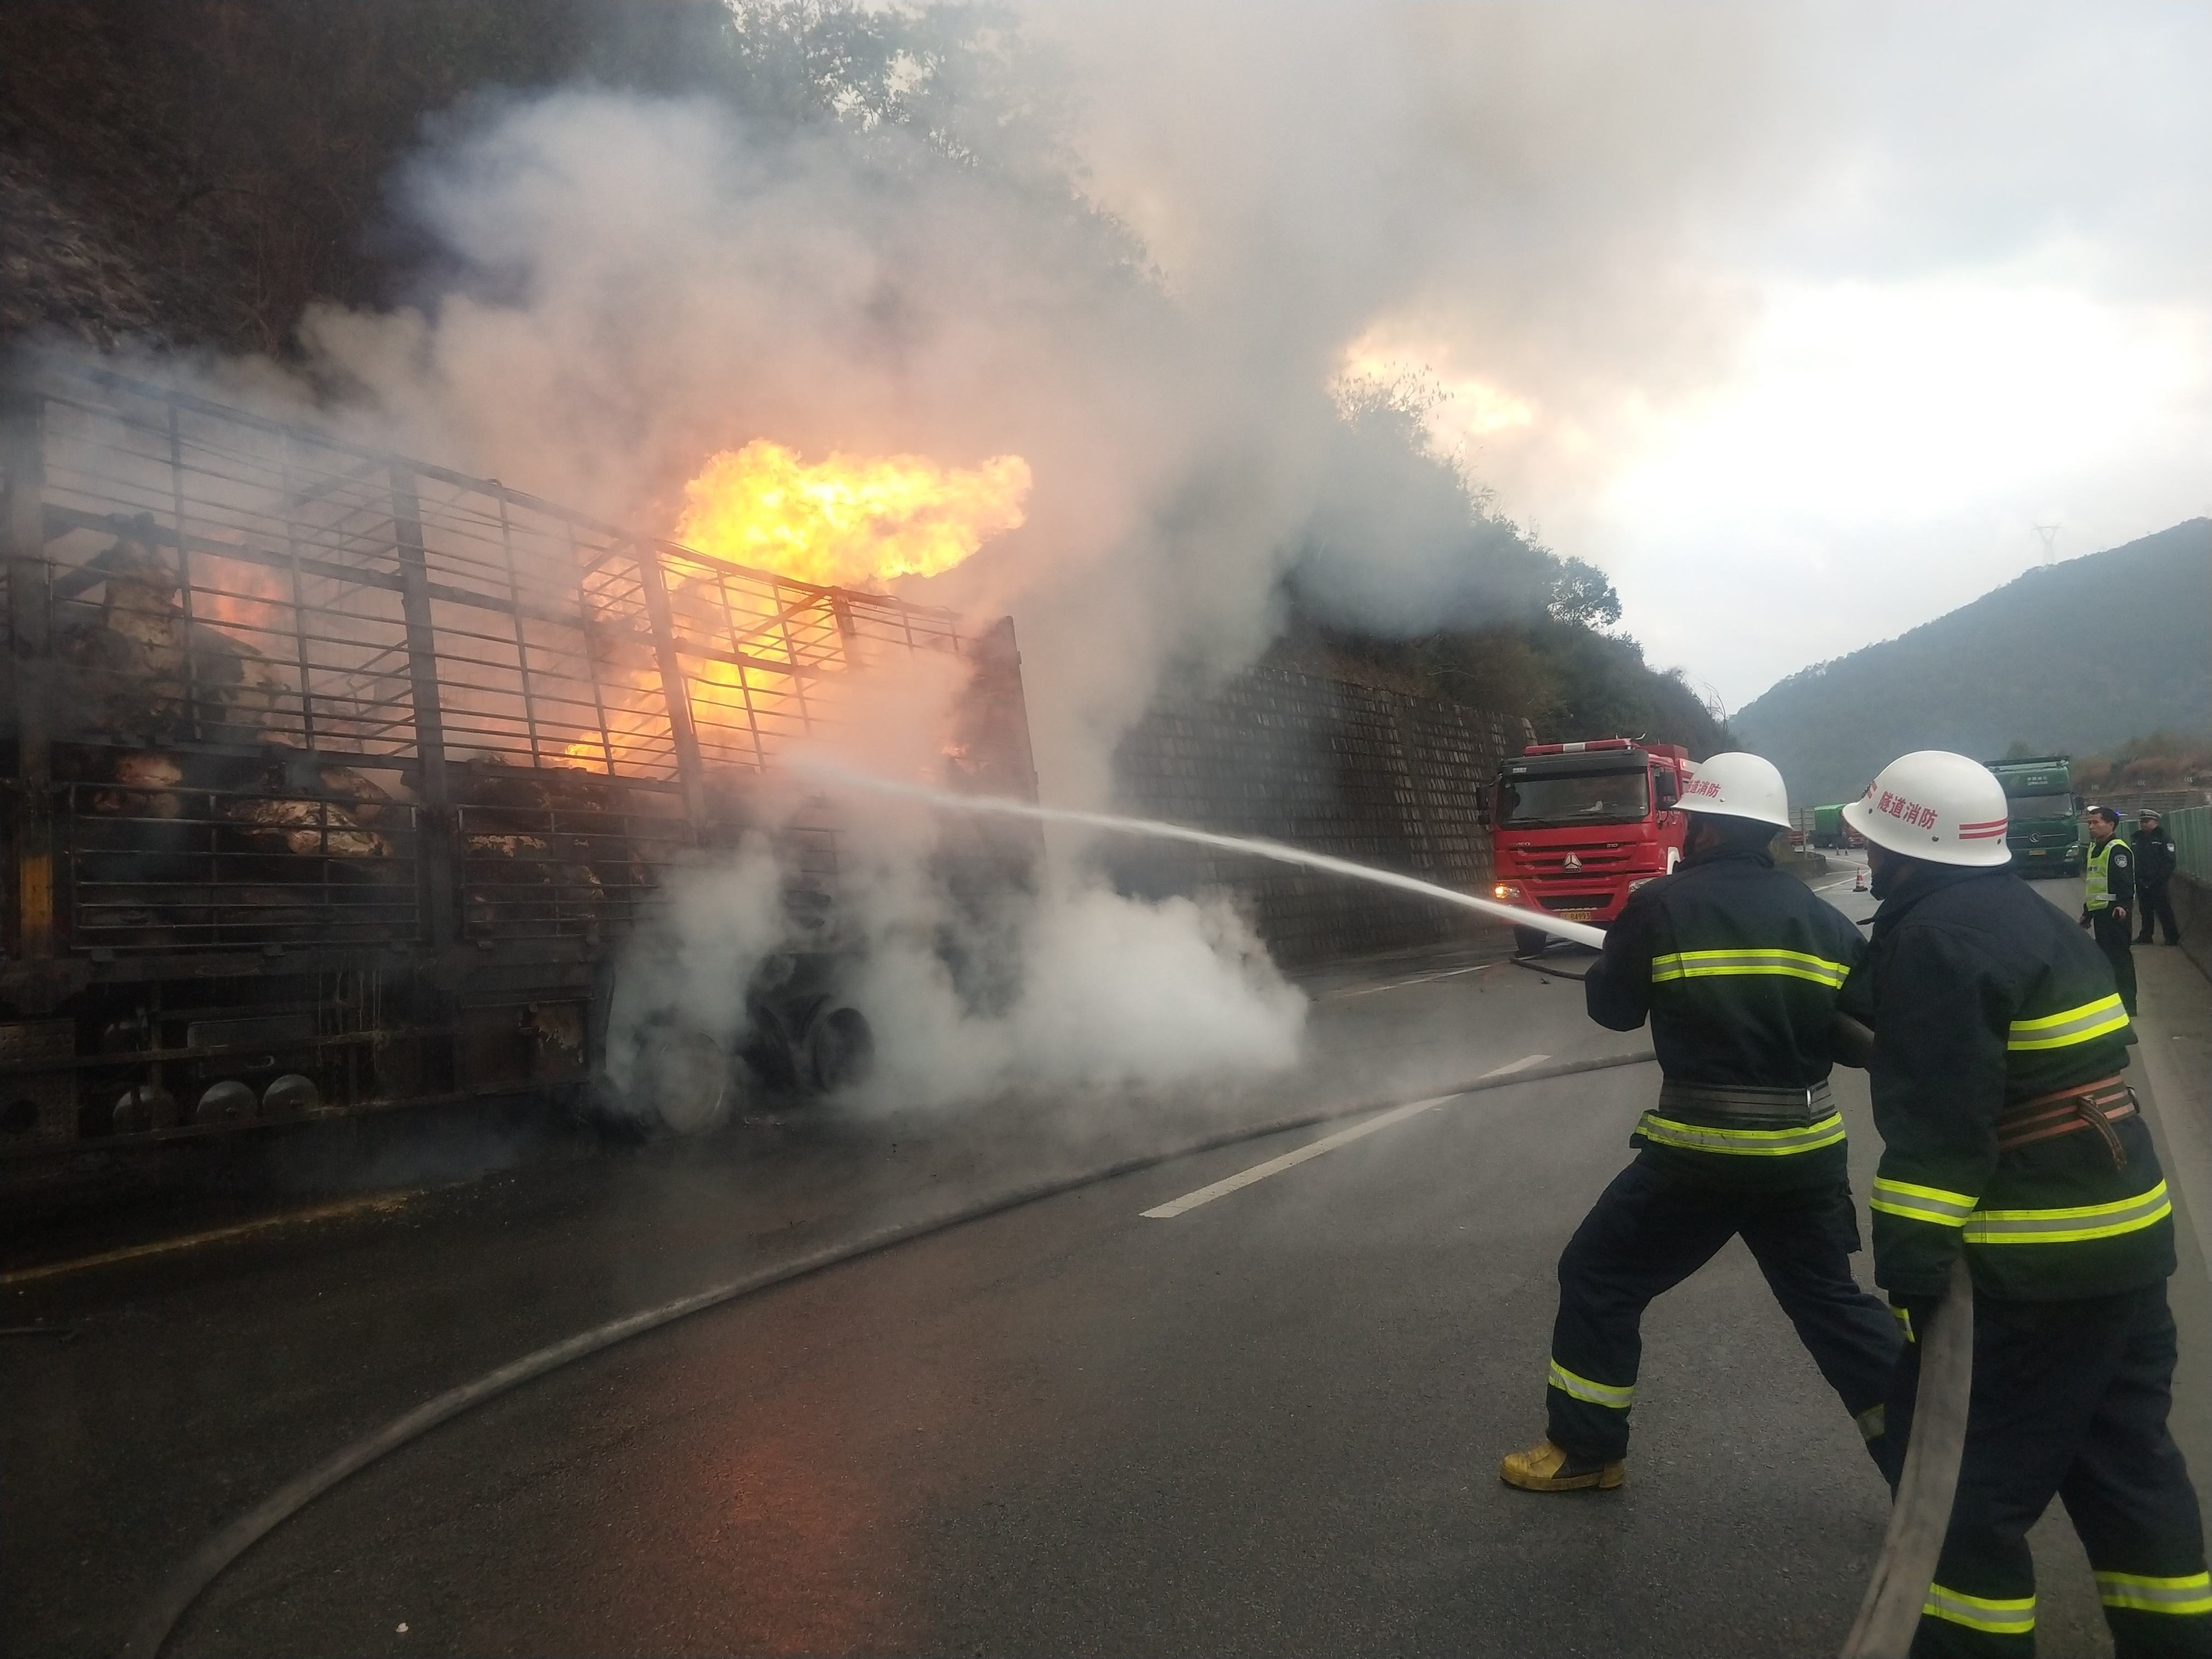fire: (587, 429, 1031, 755)
